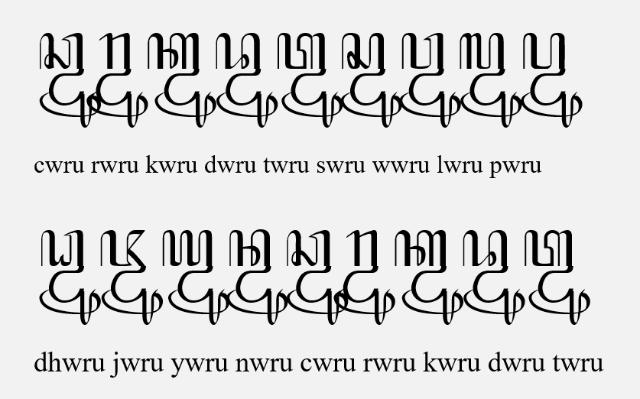cwru: (38, 32, 102, 128), (286, 229, 348, 325)
dhwru: (38, 229, 102, 326)
dwru: (216, 32, 278, 128), (462, 229, 524, 325)
jwru: (100, 230, 163, 326)
kwru: (146, 32, 218, 128), (394, 230, 464, 326)
lwru: (458, 32, 522, 128)
nwru: (226, 228, 288, 324)
pwru: (521, 32, 583, 128)
rwru: (85, 32, 148, 128), (334, 229, 396, 326)
swru: (341, 32, 404, 128)
twru: (276, 32, 344, 130), (524, 229, 590, 325)
wwru: (399, 32, 461, 128)
ywru: (162, 230, 230, 326)
